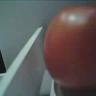tomato: (42, 6, 96, 94)
